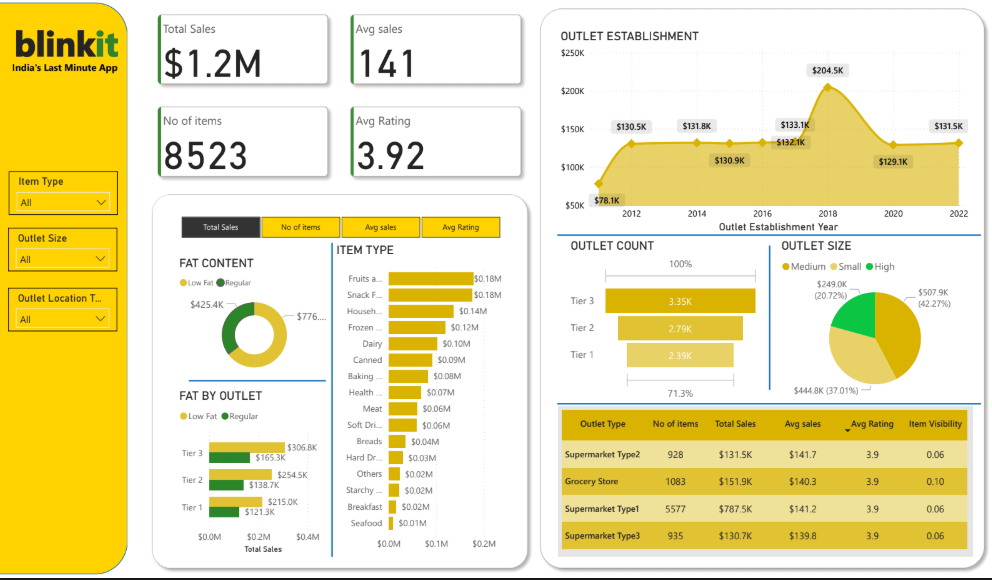

Layout of this report page (visuals, bound fields, positions):
{"tool":"powerbi","page":{"name":"Page 1","canvas":[1400,800],"ordinal":0},"visuals":[{"type":"shape","box":[0,0,181.4,800],"z":0},{"type":"textbox","box":[18,18,165.9,78.8],"z":1000},{"type":"cardVisual","fields":{"Data":["BlinkIT Grocery Data.Total Sales","BlinkIT Grocery Data.Avg sales","BlinkIT Grocery Data.No of items","BlinkIT Grocery Data.Avg Rating"]},"box":[206.7,0,543.3,260],"z":2000},{"type":"shape","box":[207,260,543,540],"z":3000},{"type":"slicer","fields":{"Values":["Parameter.Parameter"]},"box":[230.8,293,496.2,42.8],"z":4000},{"type":"donutChart","title":"FAT CONTENT","fields":{"Y":["BlinkIT Grocery Data.Total Sales"],"Category":["BlinkIT Grocery Data.Item Fat Content"]},"box":[248.8,353.8,219.8,175.5],"z":5000},{"type":"clusteredBarChart","title":"FAT BY OUTLET","fields":{"Y":["BlinkIT Grocery Data.Total Sales"],"Category":["BlinkIT Grocery Data.Outlet Location Type"],"Series":["BlinkIT Grocery Data.Item Fat Content"]},"box":[248.8,540.4,219.8,235],"z":6000},{"type":"shape","box":[266.8,500.3,192.1,58.1],"z":7000},{"type":"shape","box":[420.2,335.9,95.4,439.5],"z":8000},{"type":"barChart","title":"ITEM TYPE","fields":{"Y":["BlinkIT Grocery Data.Total Sales"],"Category":["BlinkIT Grocery Data.Item Type"]},"box":[468.6,335.9,258.5,439.5],"z":9000},{"type":"shape","box":[750,0,640,800],"z":10000},{"type":"areaChart","title":"OUTLET ESTABLISHMENT ","fields":{"Y":["BlinkIT Grocery Data.Total Sales"],"Category":["BlinkIT Grocery Data.Outlet Establishment Year"]},"box":[783.3,36.7,580,290],"z":11000},{"type":"shape","box":[783.3,296.7,593.3,56.7],"z":12000},{"type":"funnel","title":"OUTLET COUNT","fields":{"Category":["BlinkIT Grocery Data.Outlet Location Type"],"Y":["CountNonNull(BlinkIT Grocery Data.Outlet Identifier)"]},"box":[796.7,330,273.3,231.7],"z":13000},{"type":"pieChart","title":"OUTLET SIZE","fields":{"Y":["BlinkIT Grocery Data.Total Sales"],"Category":["BlinkIT Grocery Data.Outlet Size"]},"box":[1091.7,330,271.7,231.7],"z":14000},{"type":"shape","box":[783.3,533.3,593.3,56.7],"z":15000},{"type":"shape","box":[1051.7,340,56.7,201.7],"z":16000},{"type":"pivotTable","fields":{"Rows":["BlinkIT Grocery Data.Outlet Type"],"Values":["BlinkIT Grocery Data.No of items","BlinkIT Grocery Data.Total Sales","BlinkIT Grocery Data.Avg sales","BlinkIT Grocery Data.Avg Rating","Avg(BlinkIT Grocery Data.Item Visibility)"]},"box":[783.7,565.3,580.5,210.1],"z":17000},{"type":"textbox","box":[15.2,77.4,165.9,40.1],"z":18000},{"type":"slicer","fields":{"Values":["BlinkIT Grocery Data.Item Type"]},"box":[15.2,236.4,153.4,60.8],"z":19000},{"type":"slicer","fields":{"Values":["BlinkIT Grocery Data.Outlet Size"]},"box":[13.8,315.1,153.4,60.8],"z":20000},{"type":"slicer","fields":{"Values":["BlinkIT Grocery Data.Outlet Location Type"]},"box":[13.8,399.4,153.4,60.8],"z":21000}]}

Visuals, with their boxes in screenshot pixels (x1, y1, x2, y2), scaled from the page's 1400x800 canvas onto the 992x580 screenshot:
shape: x1=0, y1=0, x2=129, y2=579
textbox: x1=13, y1=13, x2=130, y2=70
cardVisual - BlinkIT Grocery Data.Total Sales x BlinkIT Grocery Data.Avg sales: x1=146, y1=0, x2=531, y2=188
shape: x1=147, y1=188, x2=531, y2=579
slicer - Parameter.Parameter: x1=164, y1=212, x2=515, y2=243
"FAT CONTENT" donutChart: x1=176, y1=257, x2=332, y2=384
"FAT BY OUTLET" clusteredBarChart: x1=176, y1=392, x2=332, y2=562
shape: x1=189, y1=363, x2=325, y2=405
shape: x1=298, y1=244, x2=365, y2=562
"ITEM TYPE" barChart: x1=332, y1=244, x2=515, y2=562
shape: x1=531, y1=0, x2=985, y2=579
"OUTLET ESTABLISHMENT " areaChart: x1=555, y1=27, x2=966, y2=237
shape: x1=555, y1=215, x2=975, y2=256
"OUTLET COUNT" funnel: x1=565, y1=239, x2=758, y2=407
"OUTLET SIZE" pieChart: x1=774, y1=239, x2=966, y2=407
shape: x1=555, y1=387, x2=975, y2=428
shape: x1=745, y1=246, x2=785, y2=393
pivotTable - BlinkIT Grocery Data.Outlet Type x BlinkIT Grocery Data.No of items: x1=555, y1=410, x2=967, y2=562
textbox: x1=11, y1=56, x2=128, y2=85
slicer - BlinkIT Grocery Data.Item Type: x1=11, y1=171, x2=119, y2=215
slicer - BlinkIT Grocery Data.Outlet Size: x1=10, y1=228, x2=118, y2=273
slicer - BlinkIT Grocery Data.Outlet Location Type: x1=10, y1=290, x2=118, y2=334
